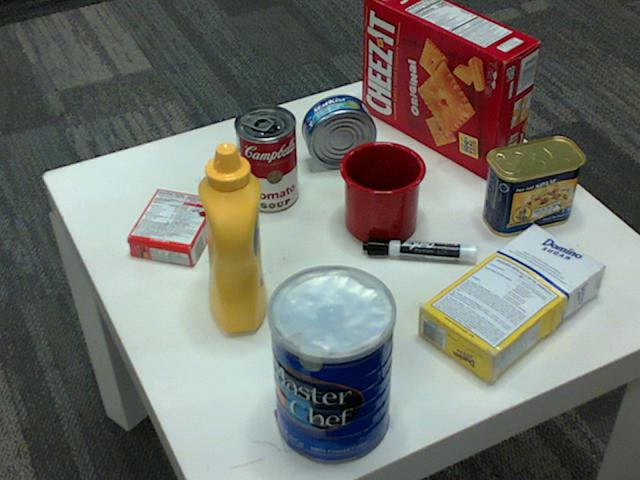cracker_box: (362, 0, 540, 179)
gelatin_box: (124, 186, 217, 263)
large_marker: (363, 238, 477, 266)
master_chef_can: (266, 267, 396, 467)
mug: (337, 139, 424, 244)
mustard_bottle: (195, 142, 265, 332)
potted_meat_can: (482, 138, 583, 237)
sugar_box: (415, 223, 603, 385)
tomato_soup_can: (233, 105, 297, 213)
tuna_fish_can: (300, 94, 375, 168)
